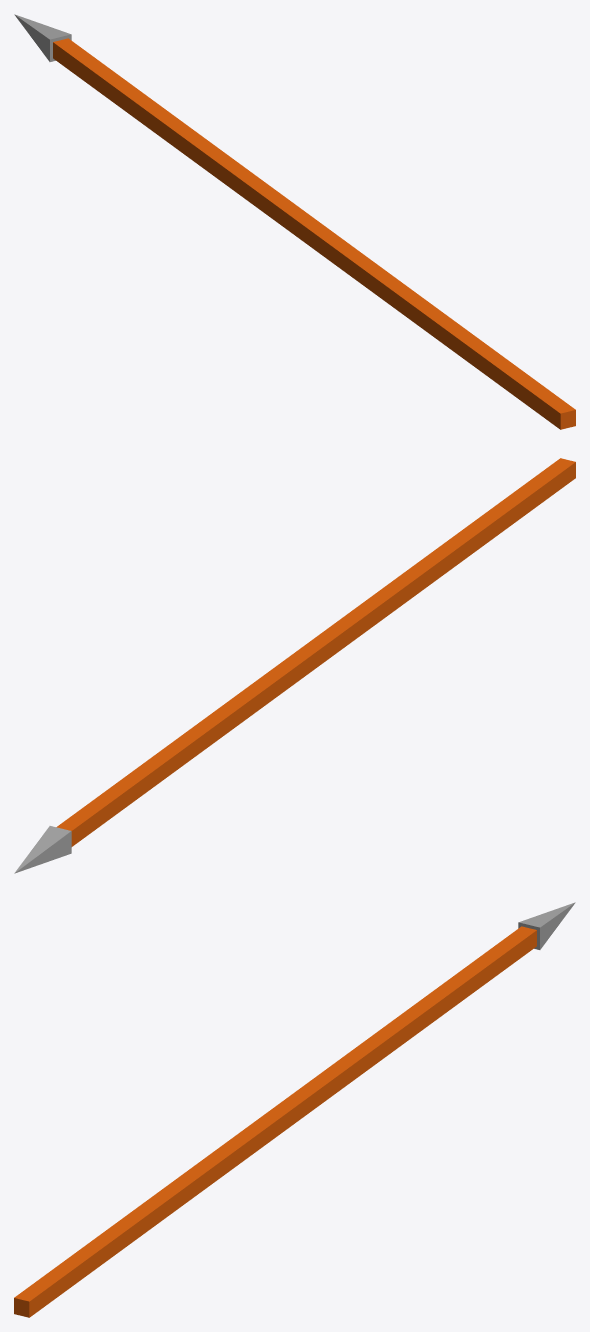
Rendered from mzrak (1).fbx.
The picture shows the model from 3 angles, top to bottom: view 1: azimuth 30°, elevation 25°; view 2: azimuth 150°, elevation 25°; view 3: azimuth 330°, elevation 25°; orthographic projection.
Parts seen in each view (by area): view 1: Mızrak; view 2: Mızrak; view 3: Mızrak.
Part boxes in pixels (x1,y1,x2,y2): Mızrak: (14, 14, 575, 429); Mızrak: (14, 458, 575, 873); Mızrak: (14, 902, 575, 1317).
Size of the model in its own units: 30.71 by 30.71 by 1363.
